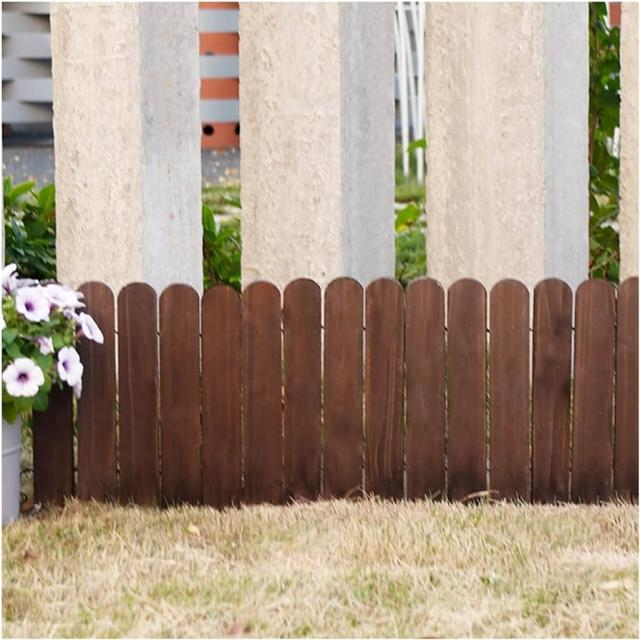Woods: (20, 278, 639, 513)
